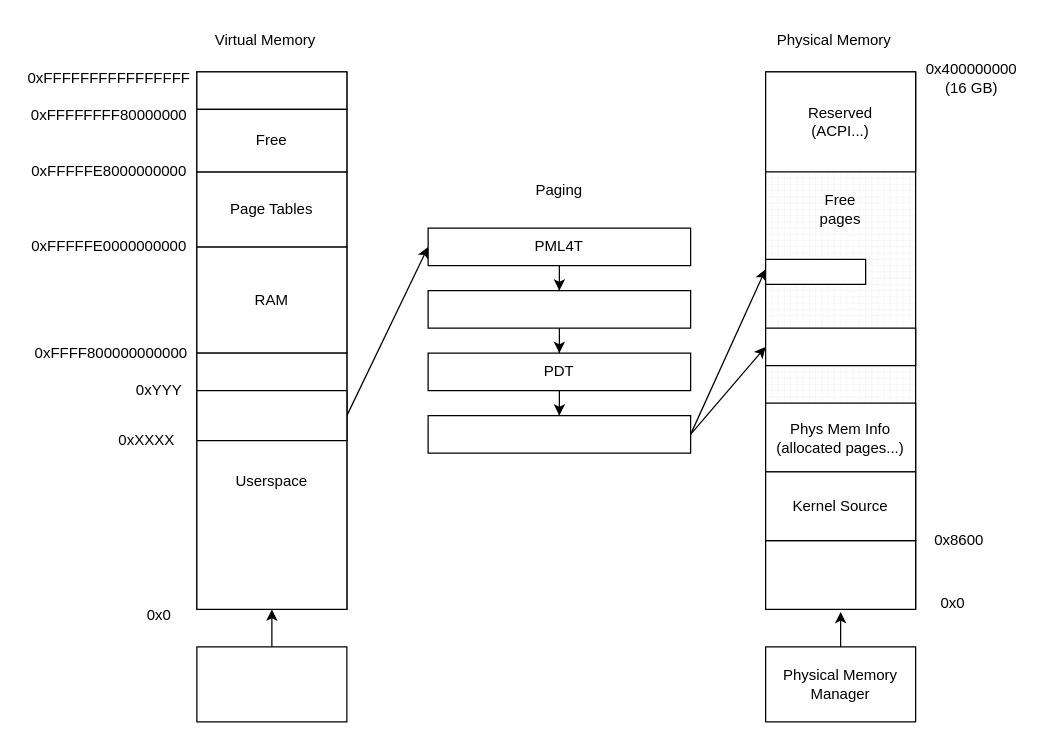
This 1049x744 diagram has some shape labels left out. Each missing label, with the centre of its shape:
"Kernel" belongs at (271,90).
"PDPT" belongs at (559,308).
"PT" belongs at (559,433).
"Reserved (boot)" belongs at (840,574).
"Virtual Memory Manager" belongs at (271,684).
